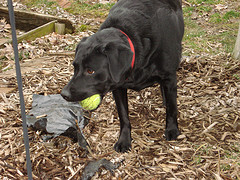tennis ball: (81, 93, 102, 110)
